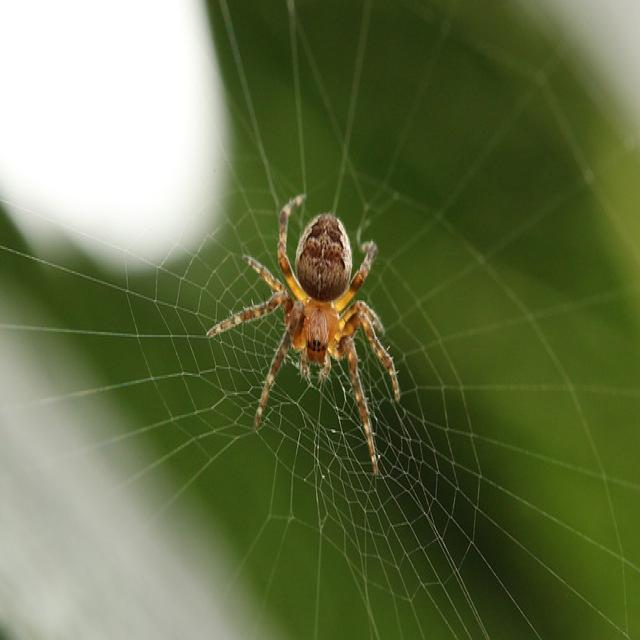spyder: (208, 196, 400, 474)
